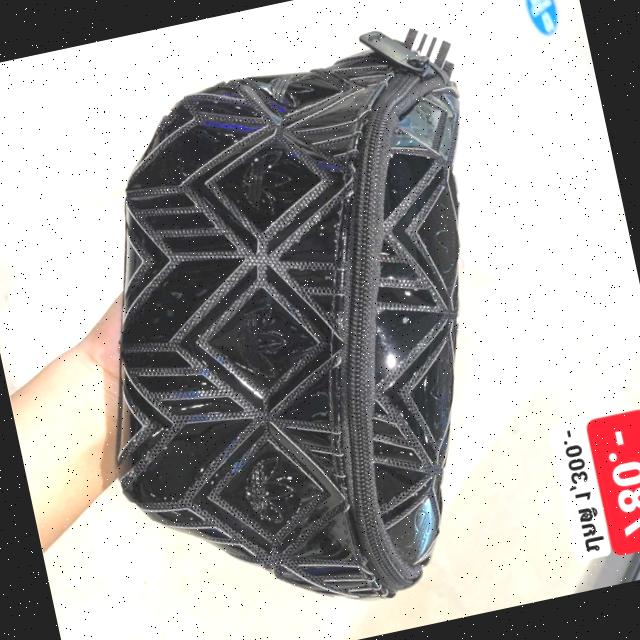Handbag: (39, 27, 568, 640)
